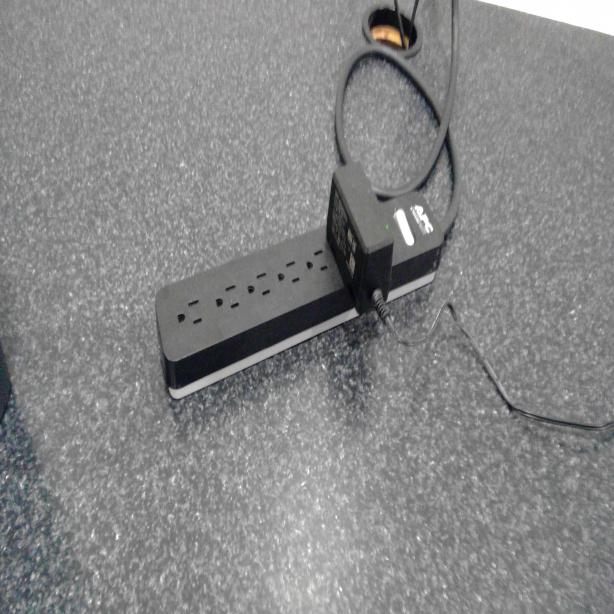typeb: (174, 292, 207, 335), (305, 237, 333, 281), (210, 279, 244, 315), (275, 252, 303, 291), (245, 268, 273, 305)
